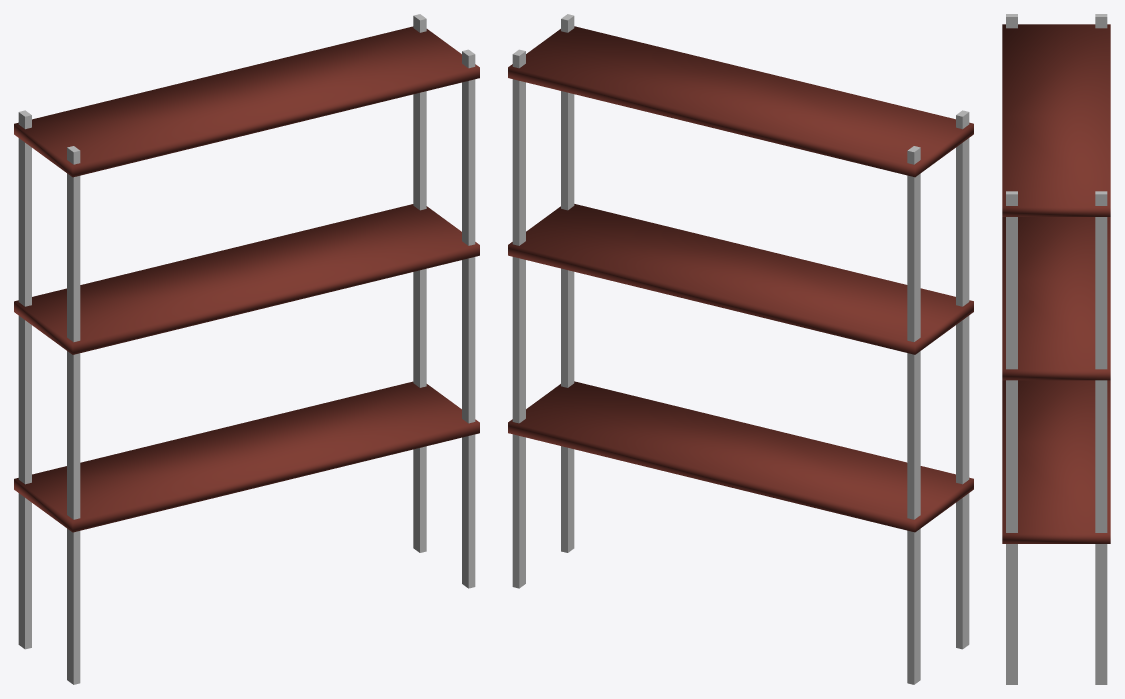
The model's file is GAMEJAMHERO - Prop(Shelf).fbx.
3 views of the same model, side by side, from view 1: azimuth 30°, elevation 25°; view 2: azimuth 150°, elevation 25°; view 3: azimuth 270°, elevation 25° (orthographic). The views are drawn at different scales.
Visible parts, largest first — view 1: Plane.006; view 2: Plane.006; view 3: Plane.006.
Part boxes in pixels (x1,y1,x2,y2): Plane.006: (14,14,479,684); Plane.006: (508,14,973,684); Plane.006: (1002,14,1110,684).
Size of the model in its own units: 240 by 300 by 60.
1 material, 1 textured.
